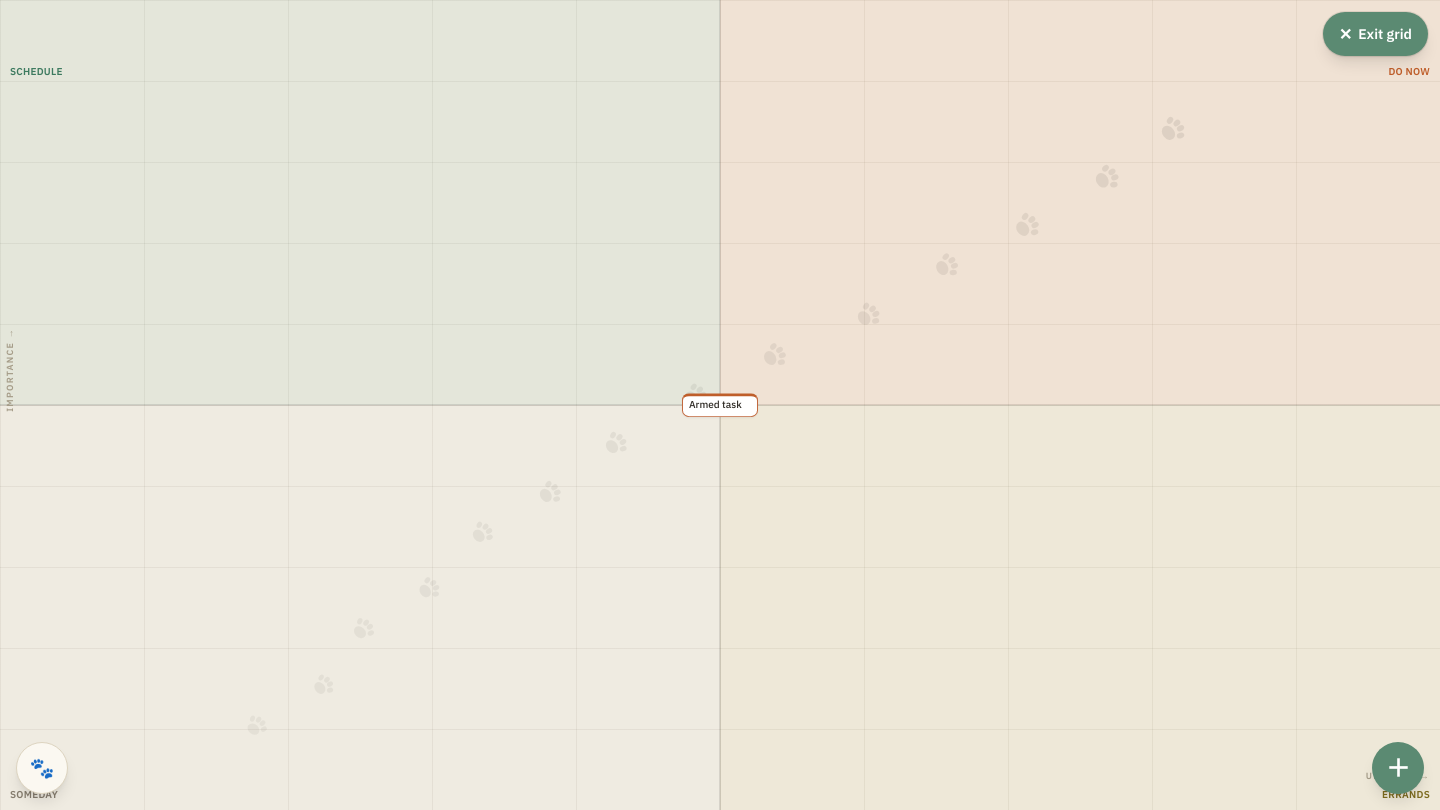
Test: TouchGridSurface hold-drag › Escape disarms tap-to-place move mode without exiting grid-only
The image size is (1440, 810).
Click the button "Armed task" at (720, 405), box [682,393,758,417]
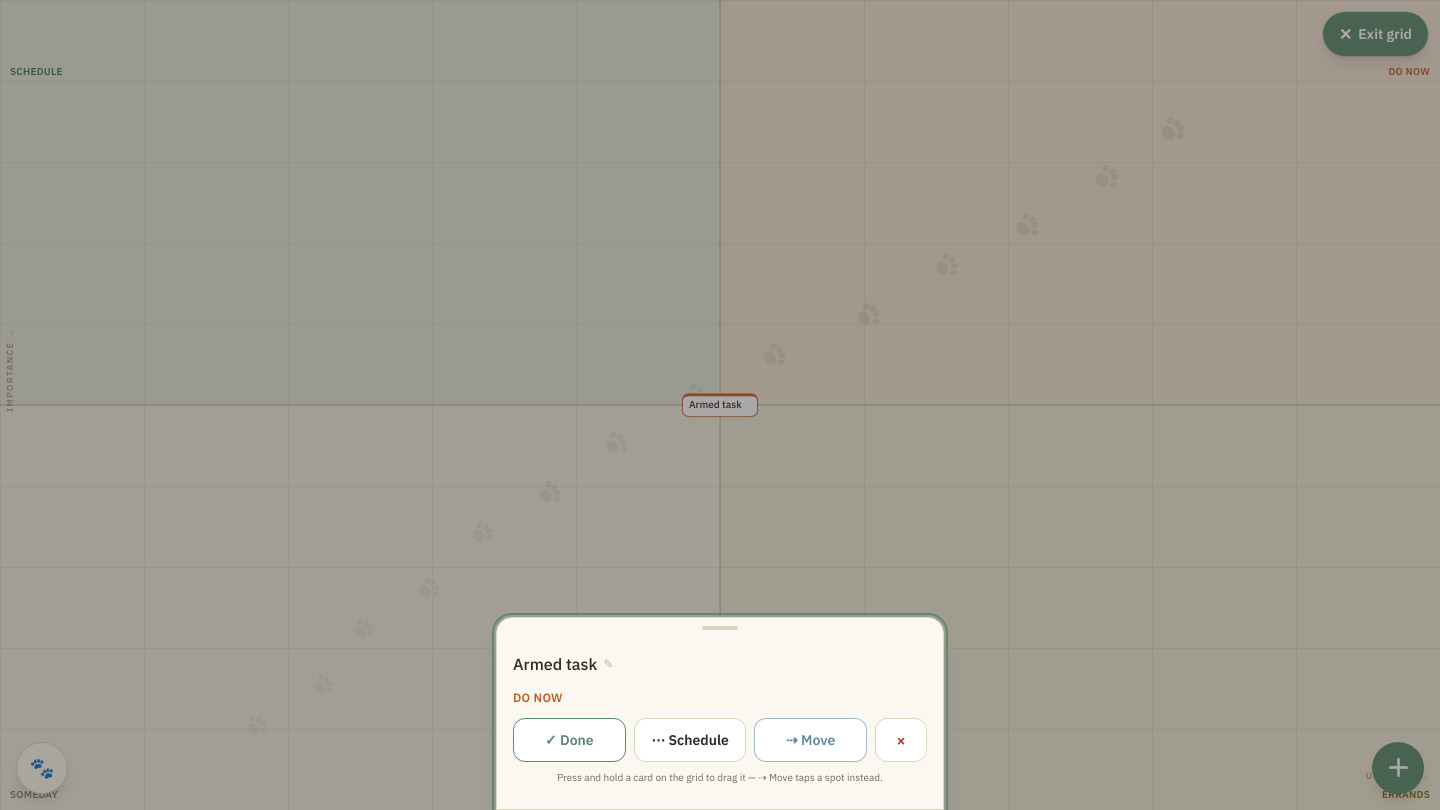
Click the button "⇢ Move" at (811, 740), box [754,718,867,762]
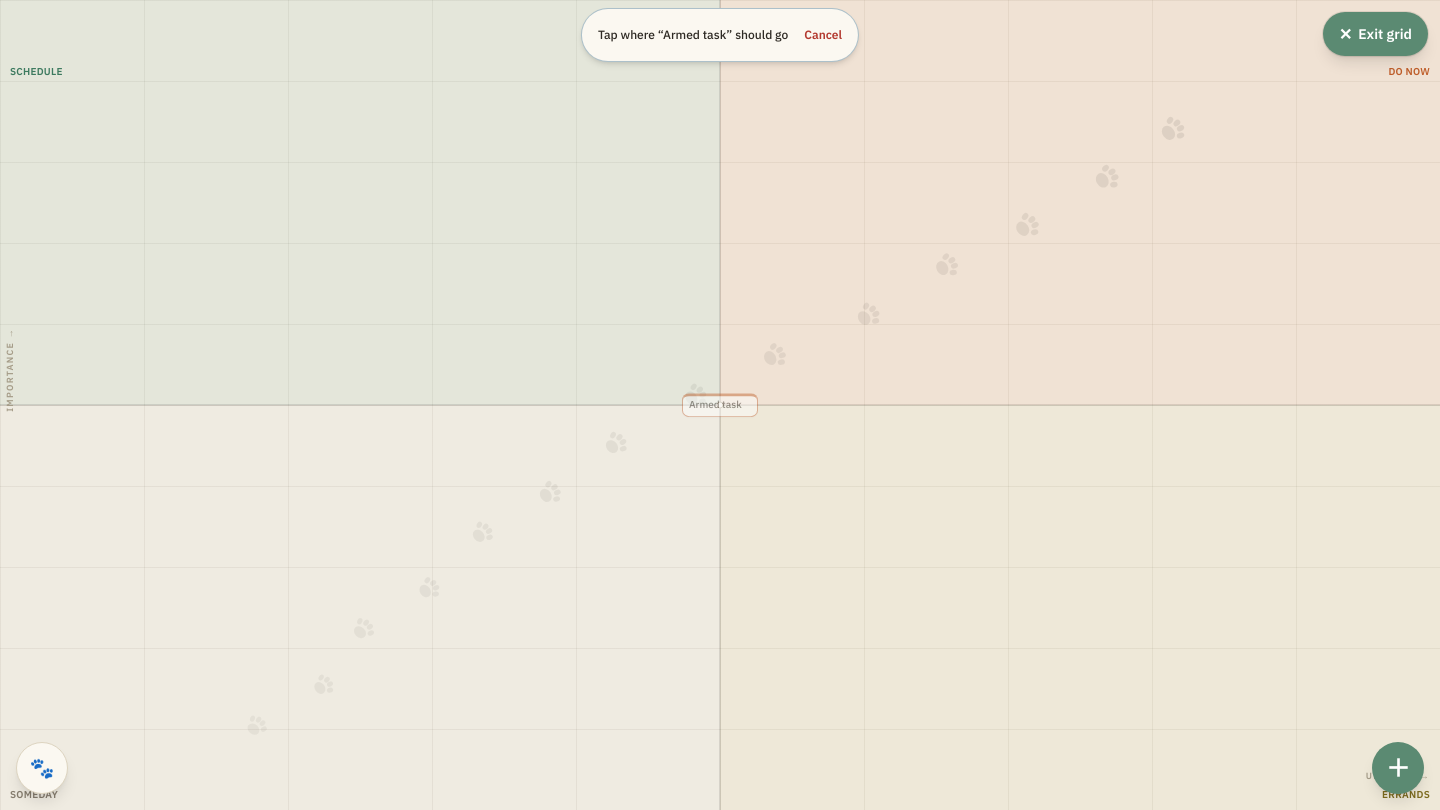
Expected: the text "Tap where “Armed task” should go" is shown, [598,27,788,43]
Press Escape
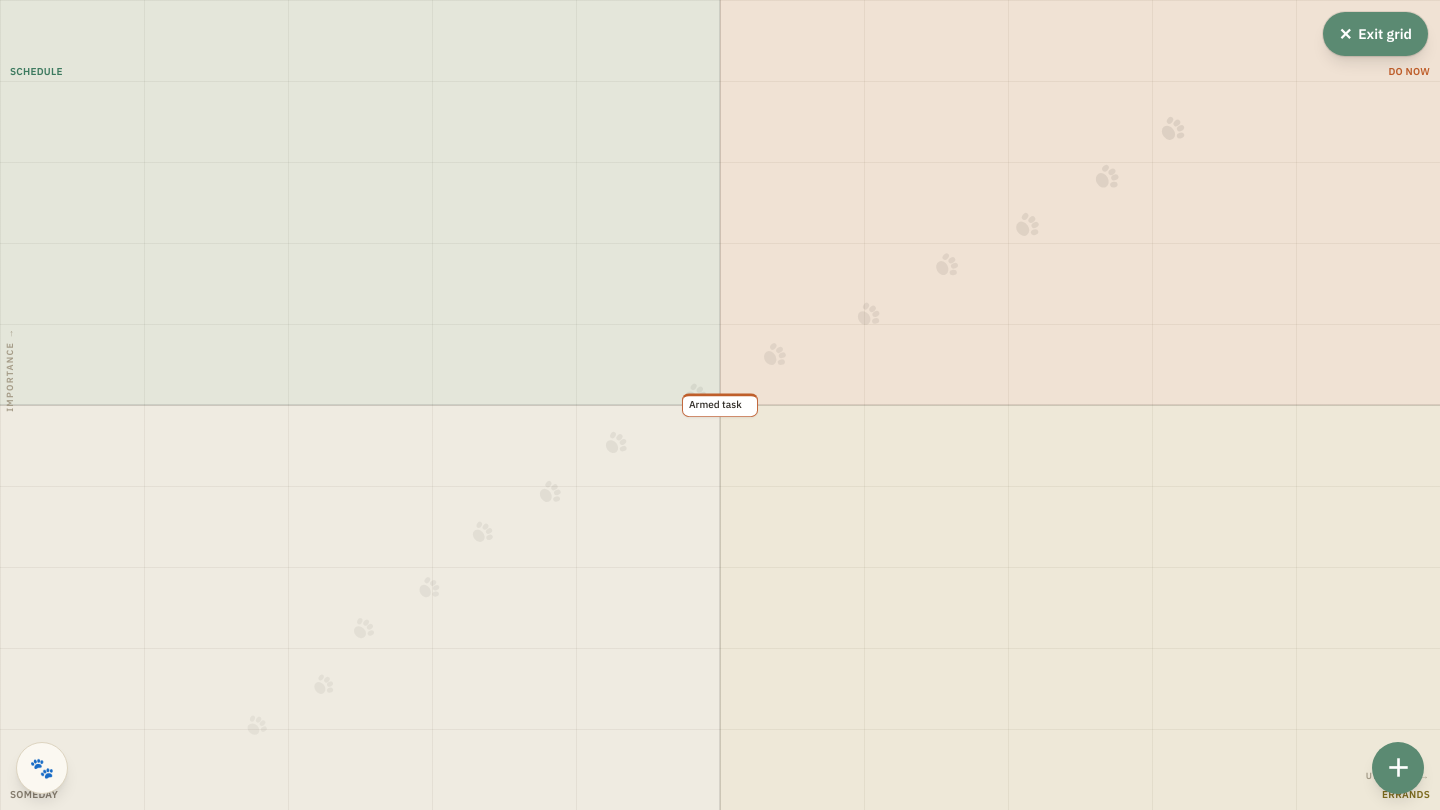
Expected: the text "Tap where" is gone
